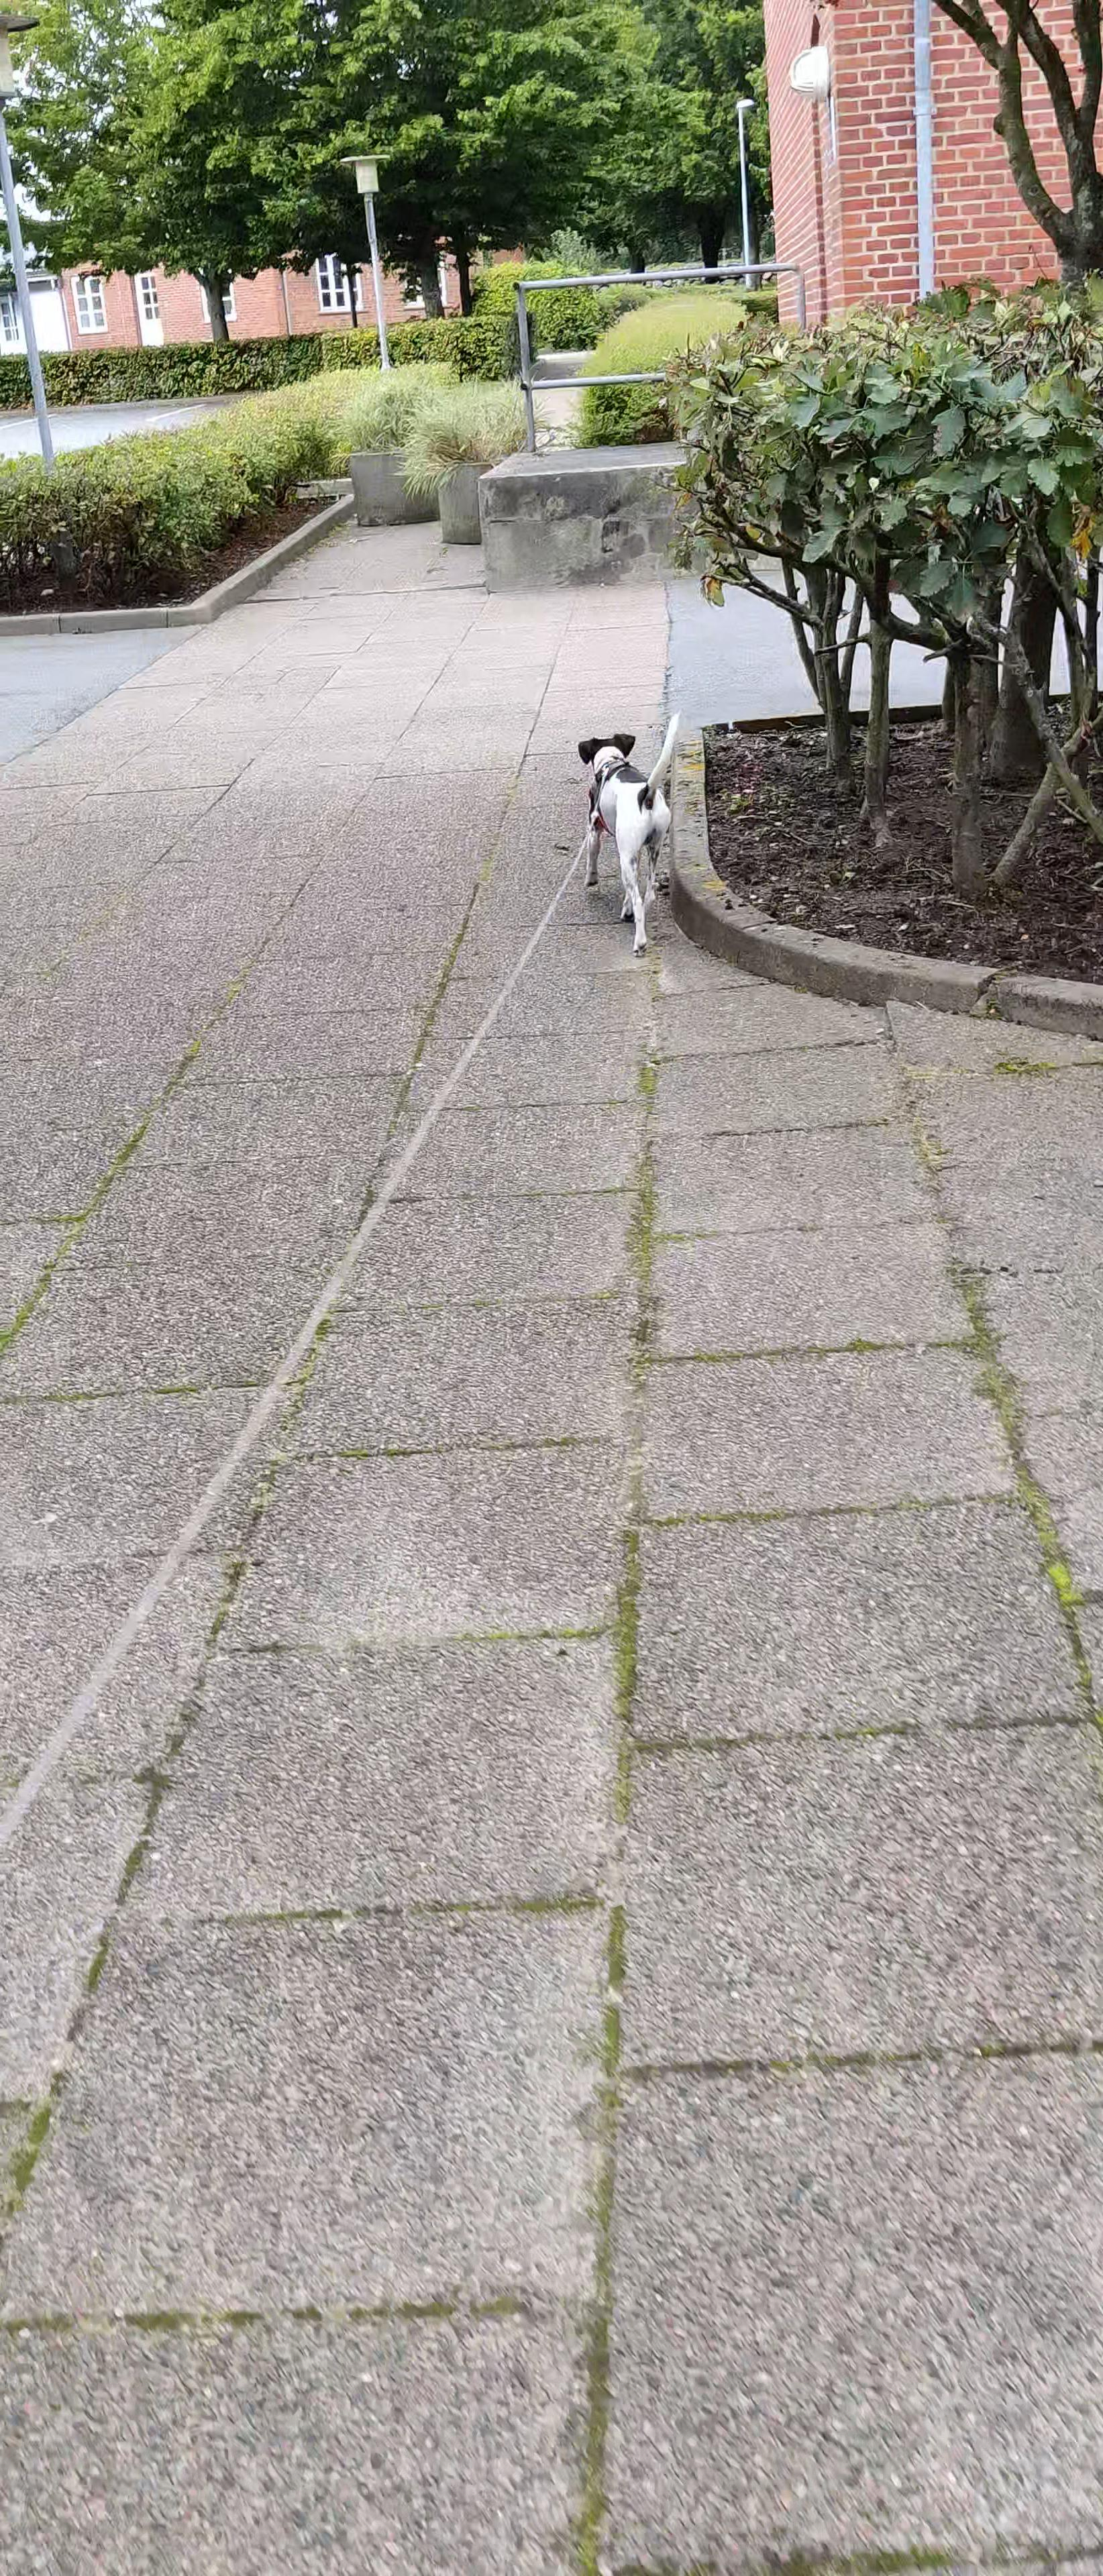Dog: (574, 706, 685, 954)
